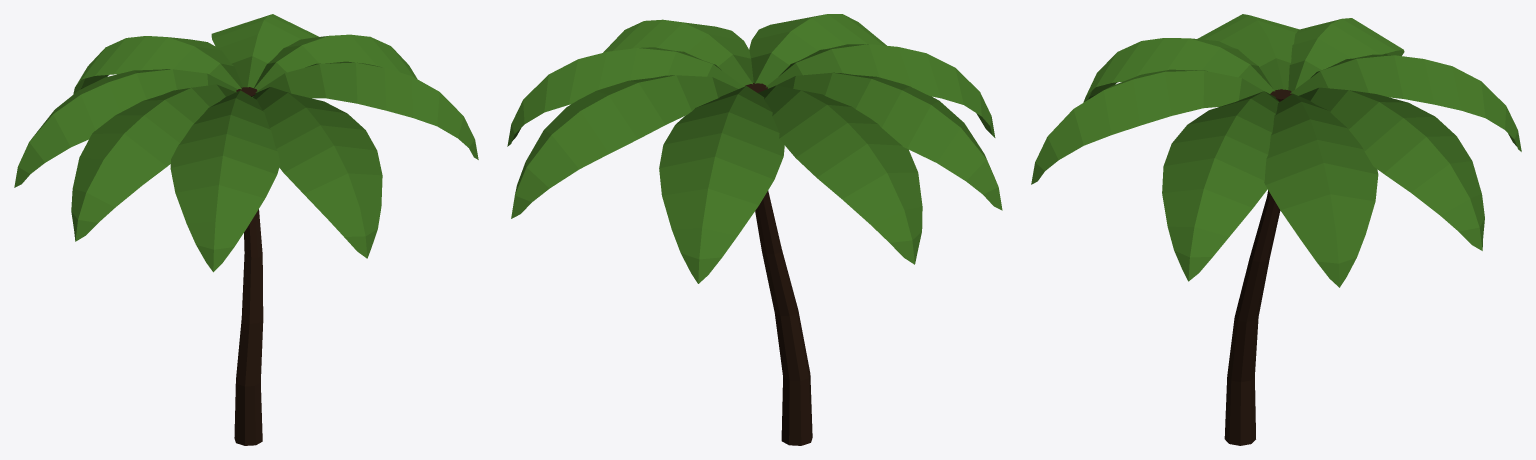
Rendered from PalmeraSeparada2.fbx.
3 views of the same model, side by side, from view 1: azimuth 30°, elevation 25°; view 2: azimuth 150°, elevation 25°; view 3: azimuth 270°, elevation 25° (orthographic). The views are drawn at different scales.
Parts seen in each view (by area): view 1: Object018, Object011, Object017, Object012, Object016, Tronco, Object015, Object013, Object014; view 2: Object015, Object016, Object014, Object017, Object013, Object018, Tronco, Object011, Object012; view 3: Object013, Object012, Object014, Object011, Object015, Tronco, Object018, Object016, Object017.
Part boxes in pixels (x1,y1,x2,y2): Object018: (170, 90, 280, 272); Object011: (253, 87, 382, 258); Object017: (71, 84, 235, 241); Object012: (252, 61, 478, 159); Object016: (14, 69, 236, 187); Tronco: (234, 87, 263, 445); Object015: (73, 36, 242, 94); Object013: (254, 34, 417, 90); Object014: (211, 14, 318, 87); Object015: (659, 86, 784, 283); Object016: (758, 85, 922, 264); Object014: (511, 75, 738, 218); Object017: (775, 72, 1002, 210); Object013: (507, 47, 743, 146); Object018: (766, 44, 995, 137); Tronco: (745, 83, 812, 445); Object011: (749, 14, 886, 85); Object012: (603, 19, 753, 86); Object013: (1264, 93, 1378, 287); Object012: (1162, 91, 1279, 281); Object014: (1299, 87, 1484, 250); Object011: (1031, 69, 1263, 184); Object015: (1290, 54, 1521, 151); Tronco: (1224, 89, 1292, 445); Object018: (1083, 38, 1274, 102); Object016: (1288, 18, 1404, 91); Object017: (1197, 14, 1299, 90).
Size of the model in its own units: 447 by 380 by 444.
